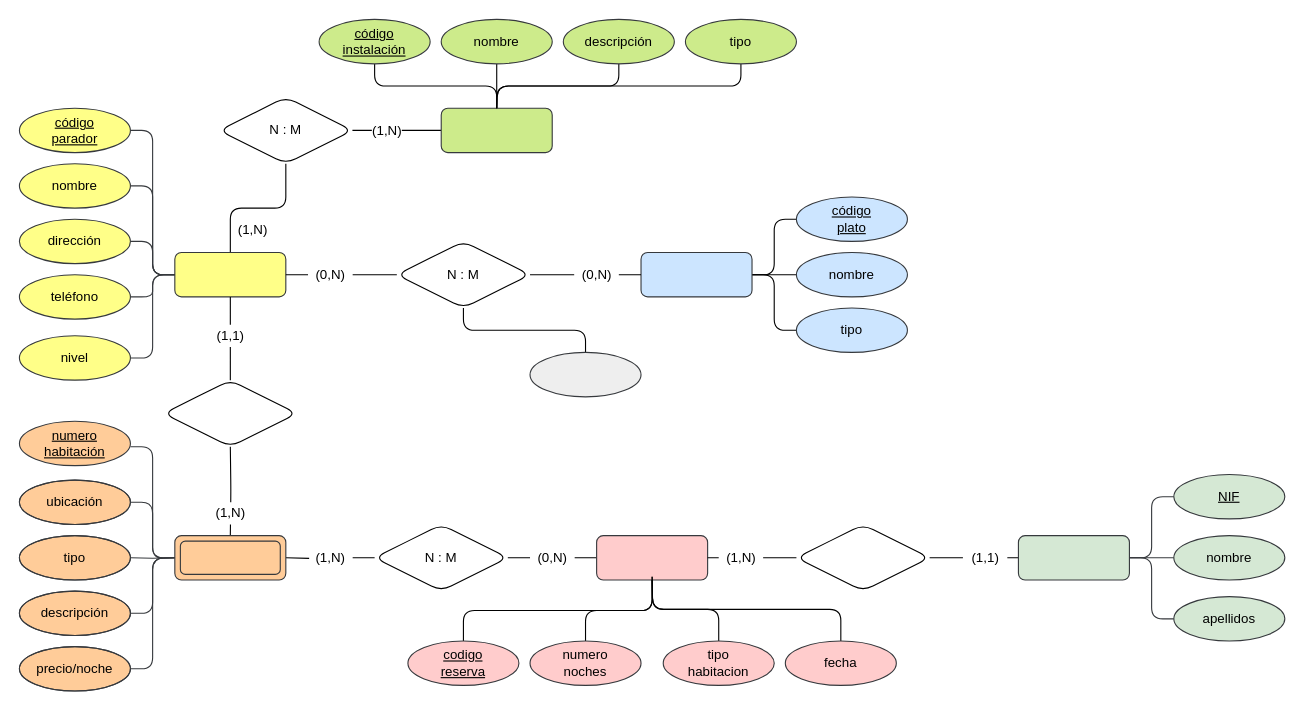
This 1304x710 diagram has some shape labels left out. The centre of each missing label's shape, as x and y in pixels:
1 : N (EX): the point at 230,413
CLIENTE: the point at 1073,557
HABITACIONES: the point at 230,557
INSTALACIONES: the point at 496,130
N : 1: the point at 862,557
PARADORES: the point at 230,274
PLATOS: the point at 696,274
precio: the point at 585,374
RESERVA: the point at 652,557
